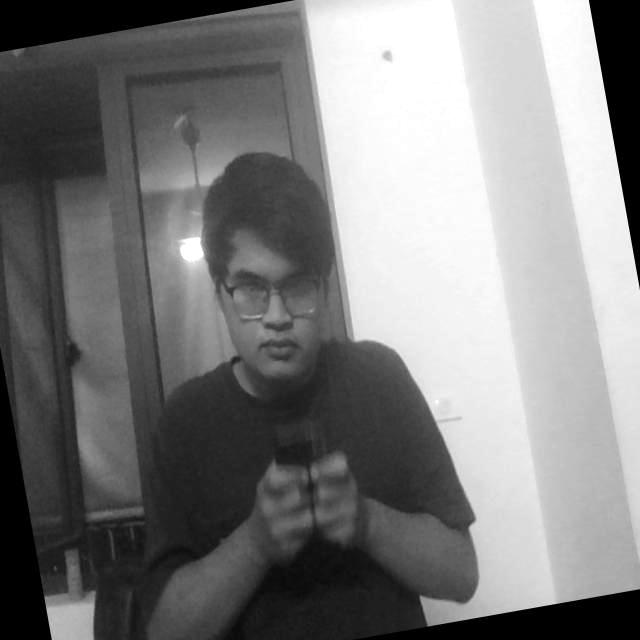phone: (258, 412, 352, 524)
